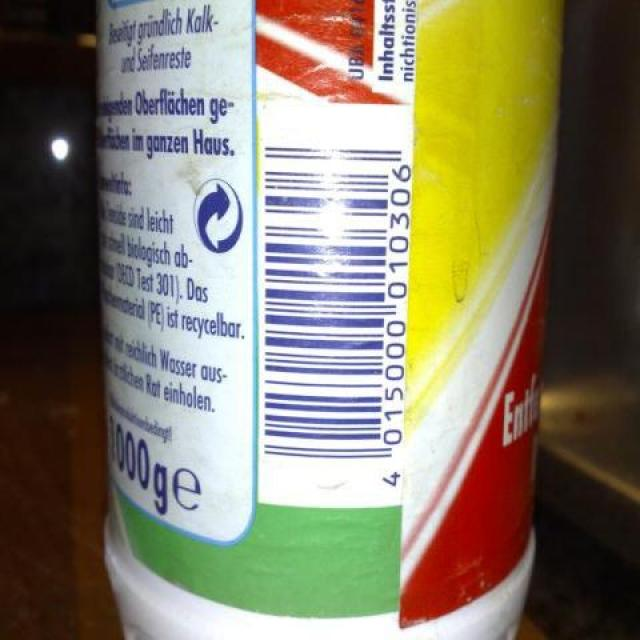Barcode: (259, 100, 414, 508)
